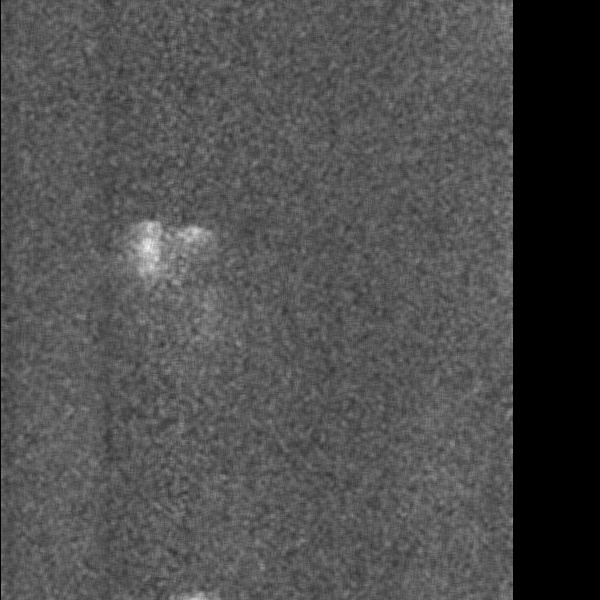spark: (101, 212, 168, 323), (167, 219, 211, 272)
